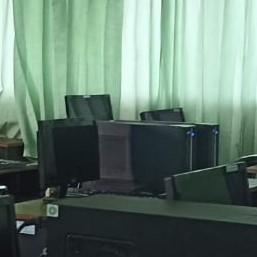monitor: (37, 117, 100, 193), (0, 189, 20, 257), (65, 94, 114, 121)
